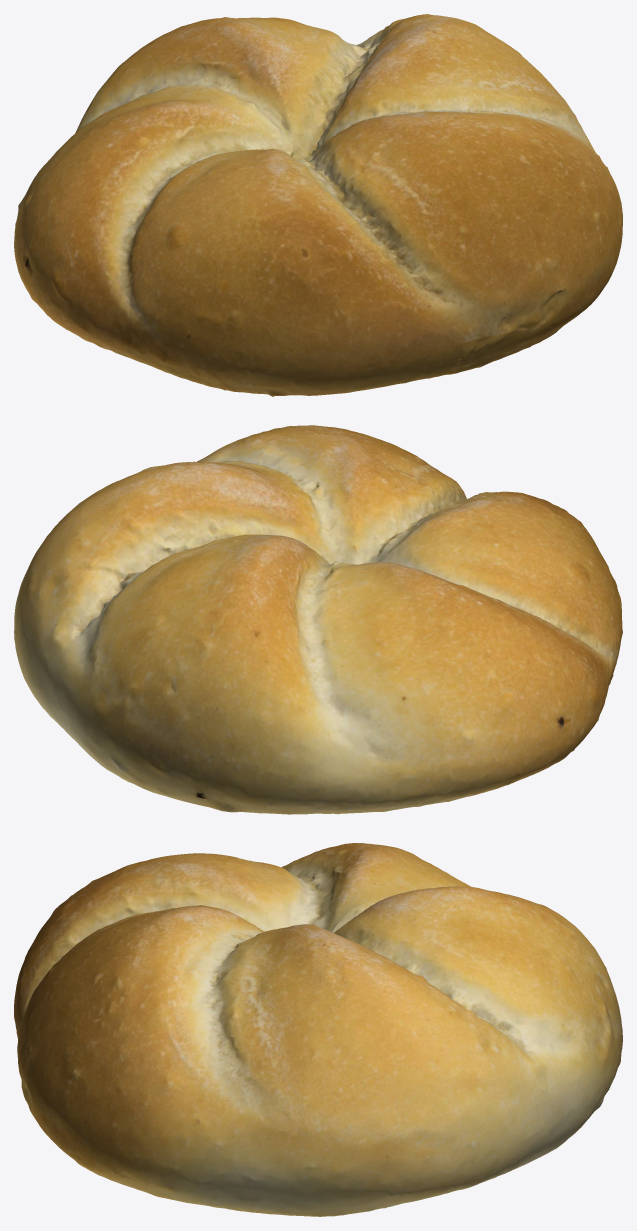
File: BakeryProduct10_LOD1.gltf
3 views of the same model, one above another, from view 1: azimuth 30°, elevation 25°; view 2: azimuth 150°, elevation 25°; view 3: azimuth 270°, elevation 25° (orthographic). The views are drawn at different scales.
Visible parts, largest first — view 1: BakeryProduct10_LOD1; view 2: BakeryProduct10_LOD1; view 3: BakeryProduct10_LOD1.
Boxes of the visible parts, <box> form: BakeryProduct10_LOD1: <box>14,14,622,396</box>; BakeryProduct10_LOD1: <box>14,425,622,814</box>; BakeryProduct10_LOD1: <box>14,843,622,1216</box>.
Bounding box in the file's own units: 0.1309 × 0.0537 × 0.1277.
Materials: 1 (1 with a texture image).
